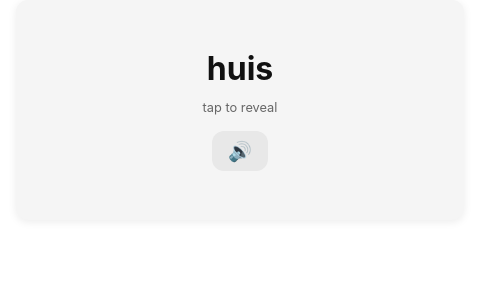
Test: Flashcard › reveals definition after clicking the card
Click the element with test id "flashcard" at (240, 110), box [16, 0, 464, 220]
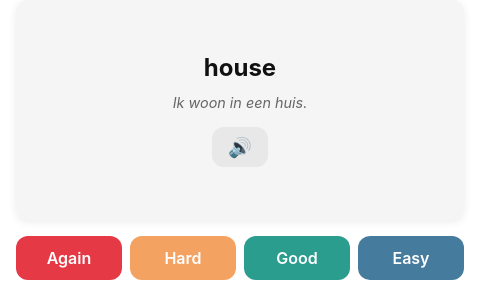
Check: the text "house" is shown, box [204, 53, 276, 82]
